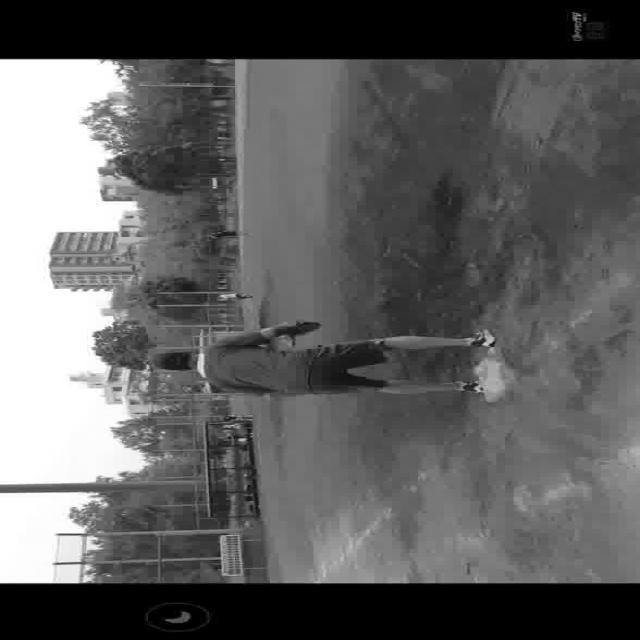base: (470, 342, 514, 406)
baseball_glove: (268, 316, 324, 346)
shoe: (464, 326, 502, 350), (462, 378, 487, 394)
